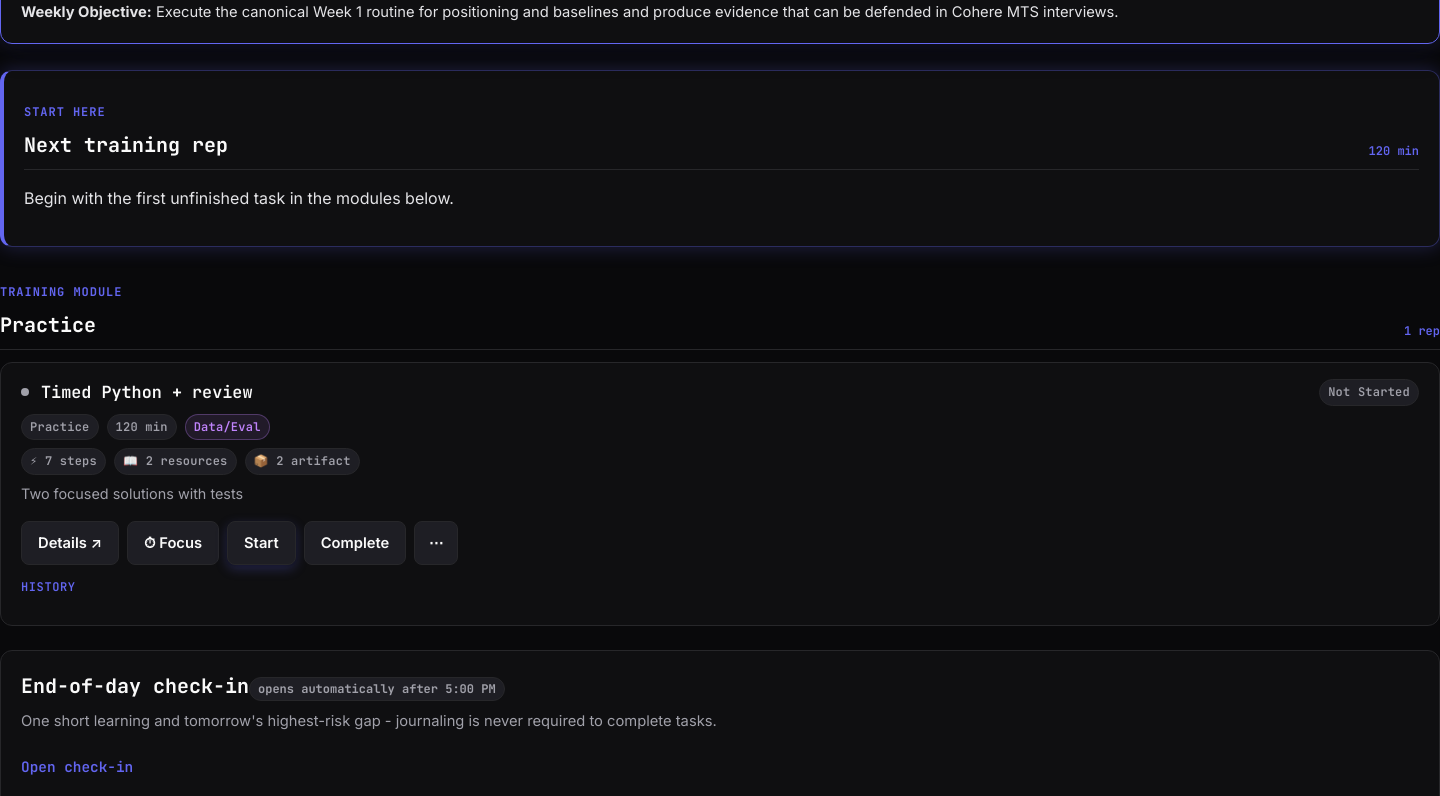
it: TodayView › shows a visible error and no false success when the mutation fails
The image size is (1440, 796).
(page scrolled)
Expected: the heading "Timed Python + review" is shown, [41,381,252,403]
Click the button "Start": (261, 543) [227,521,296,565]
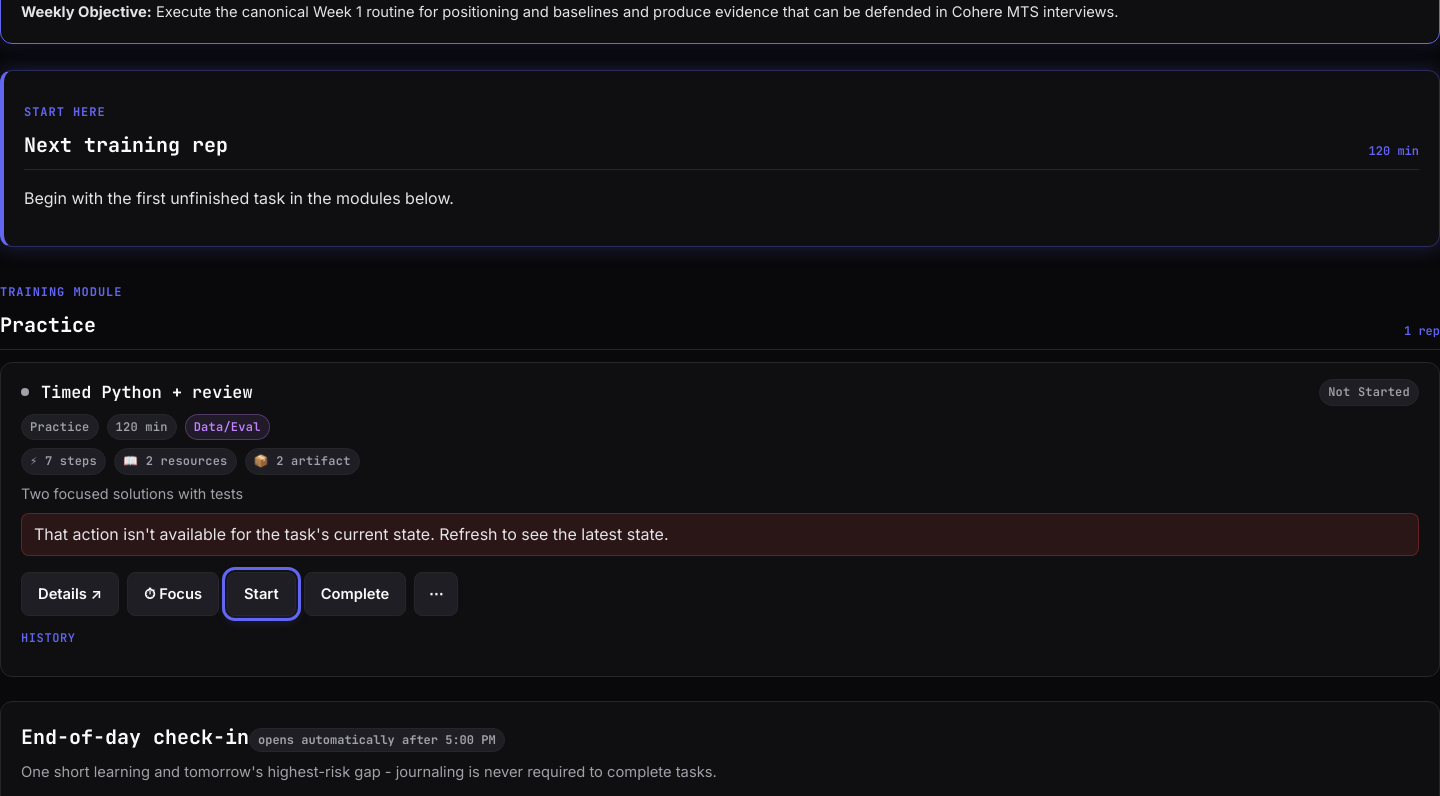
Expected: the text "That action isn't available" is shown, [34,524,668,544]
